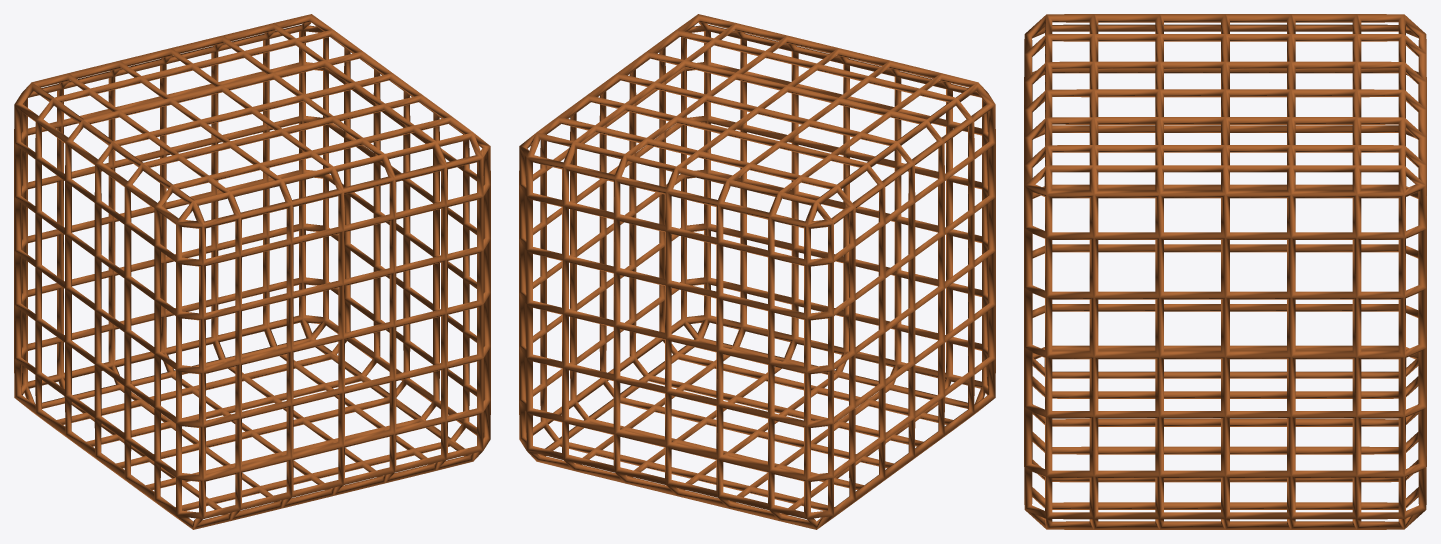
File: Cage.fbx
The picture shows the model from 3 angles, left to right: view 1: azimuth 30°, elevation 25°; view 2: azimuth 150°, elevation 25°; view 3: azimuth 270°, elevation 25°; orthographic projection. The views are drawn at different scales.
Parts seen in each view (by area): view 1: Cube; view 2: Cube; view 3: Cube.
Boxes of the visible parts, x1,y1,x2,y2 form: Cube: (14, 14, 490, 529); Cube: (519, 14, 995, 529); Cube: (1024, 14, 1426, 529).
Bounding box in the file's own units: 204 × 204 × 204.
